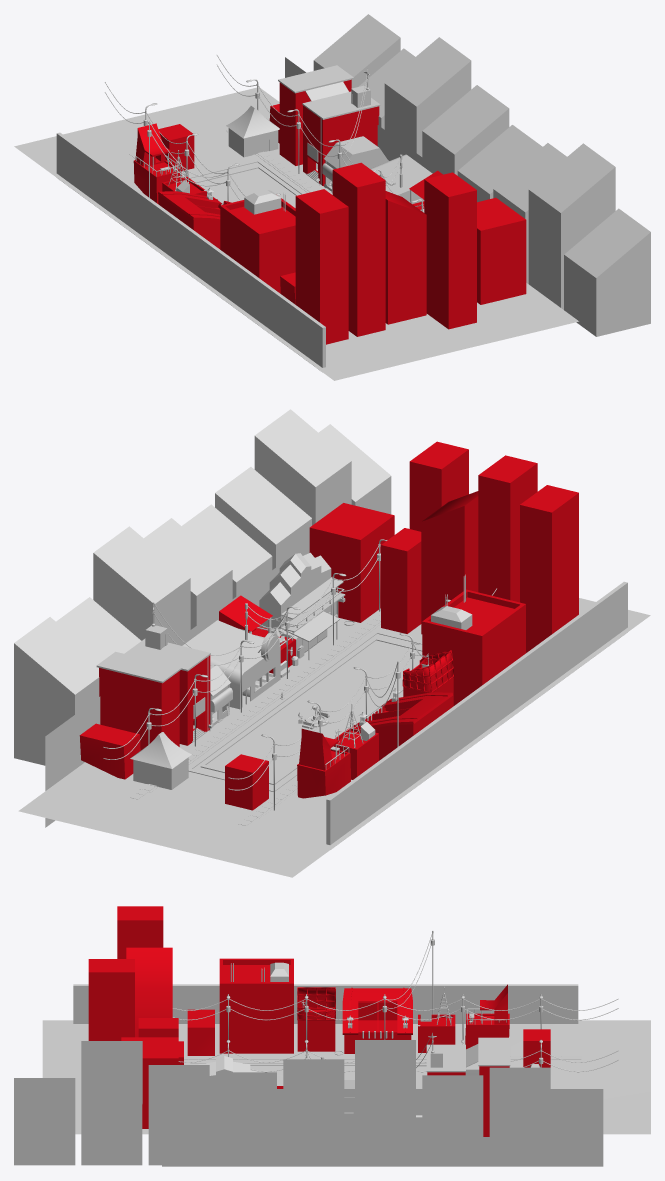
The model's file is Eshak Attack.fbx.
3 views of the same model, one above another, from view 1: azimuth 30°, elevation 25°; view 2: azimuth 150°, elevation 25°; view 3: azimuth 270°, elevation 25° (orthographic). The views are drawn at different scales.
Parts seen in each view (by area): view 1: Cube.047, World Grid.001, Cube.085, Skyscraper (2).033, Skyscraper (2).032, Skyscraper (2).034, Skyscraper (2).031, Skyscraper (2).035, Skyscraper (2).042, Skyscraper (2).040, Skyscraper (2).038, Cube.110 (+12 smaller); view 2: Cube.047, World Grid.001, Cube.085, Skyscraper (2).042, Skyscraper (2).032, Skyscraper (2).035, Skyscraper (2).040, Skyscraper (2).034, Skyscraper (2).031, Cube.110, Skyscraper (2).033, Plane.028 (+21 smaller); view 3: Cube.047, World Grid.001, Cube.085, Plane.028, Skyscraper (2).035, Skyscraper (2).033, Skyscraper (2).031, Skyscraper (2).042, Skyscraper (2).034, Skyscraper (2).048, Skyscraper (2).039, Vert.010 (+12 smaller).
Part boxes in pixels (x1,y1,x2,y2): Cube.047: [313, 14, 650, 336]; World Grid.001: [14, 87, 578, 380]; Cube.085: [56, 132, 325, 370]; Skyscraper (2).033: [424, 172, 476, 329]; Skyscraper (2).032: [295, 189, 348, 344]; Skyscraper (2).034: [332, 162, 385, 336]; Skyscraper (2).031: [385, 191, 426, 324]; Skyscraper (2).035: [220, 198, 295, 293]; Skyscraper (2).042: [477, 197, 526, 304]; Skyscraper (2).040: [279, 79, 379, 186]; Skyscraper (2).038: [133, 123, 181, 203]; Cube.110: [370, 154, 432, 203]; Cube.047: [14, 409, 391, 765]; World Grid.001: [18, 598, 650, 877]; Cube.085: [326, 581, 627, 849]; Skyscraper (2).042: [309, 503, 421, 633]; Skyscraper (2).032: [520, 485, 578, 652]; Skyscraper (2).035: [422, 589, 525, 705]; Skyscraper (2).040: [99, 655, 210, 750]; Skyscraper (2).034: [478, 455, 537, 602]; Skyscraper (2).031: [421, 491, 478, 634]; Cube.110: [182, 620, 280, 709]; Skyscraper (2).033: [409, 441, 468, 531]; Plane.028: [45, 546, 305, 827]; Cube.047: [14, 1040, 550, 1165]; World Grid.001: [42, 1020, 650, 1134]; Cube.085: [73, 984, 578, 1023]; Plane.028: [162, 1089, 603, 1166]; Skyscraper (2).035: [219, 958, 293, 1053]; Skyscraper (2).033: [88, 959, 134, 1040]; Skyscraper (2).031: [126, 947, 172, 1037]; Skyscraper (2).042: [121, 1018, 178, 1128]; Skyscraper (2).034: [117, 907, 163, 958]; Skyscraper (2).048: [342, 988, 412, 1034]; Skyscraper (2).039: [344, 1002, 411, 1053]; Vert.010: [172, 998, 618, 1072].
Bounding box in the file's own units: 8074 × 4695 × 15550.
